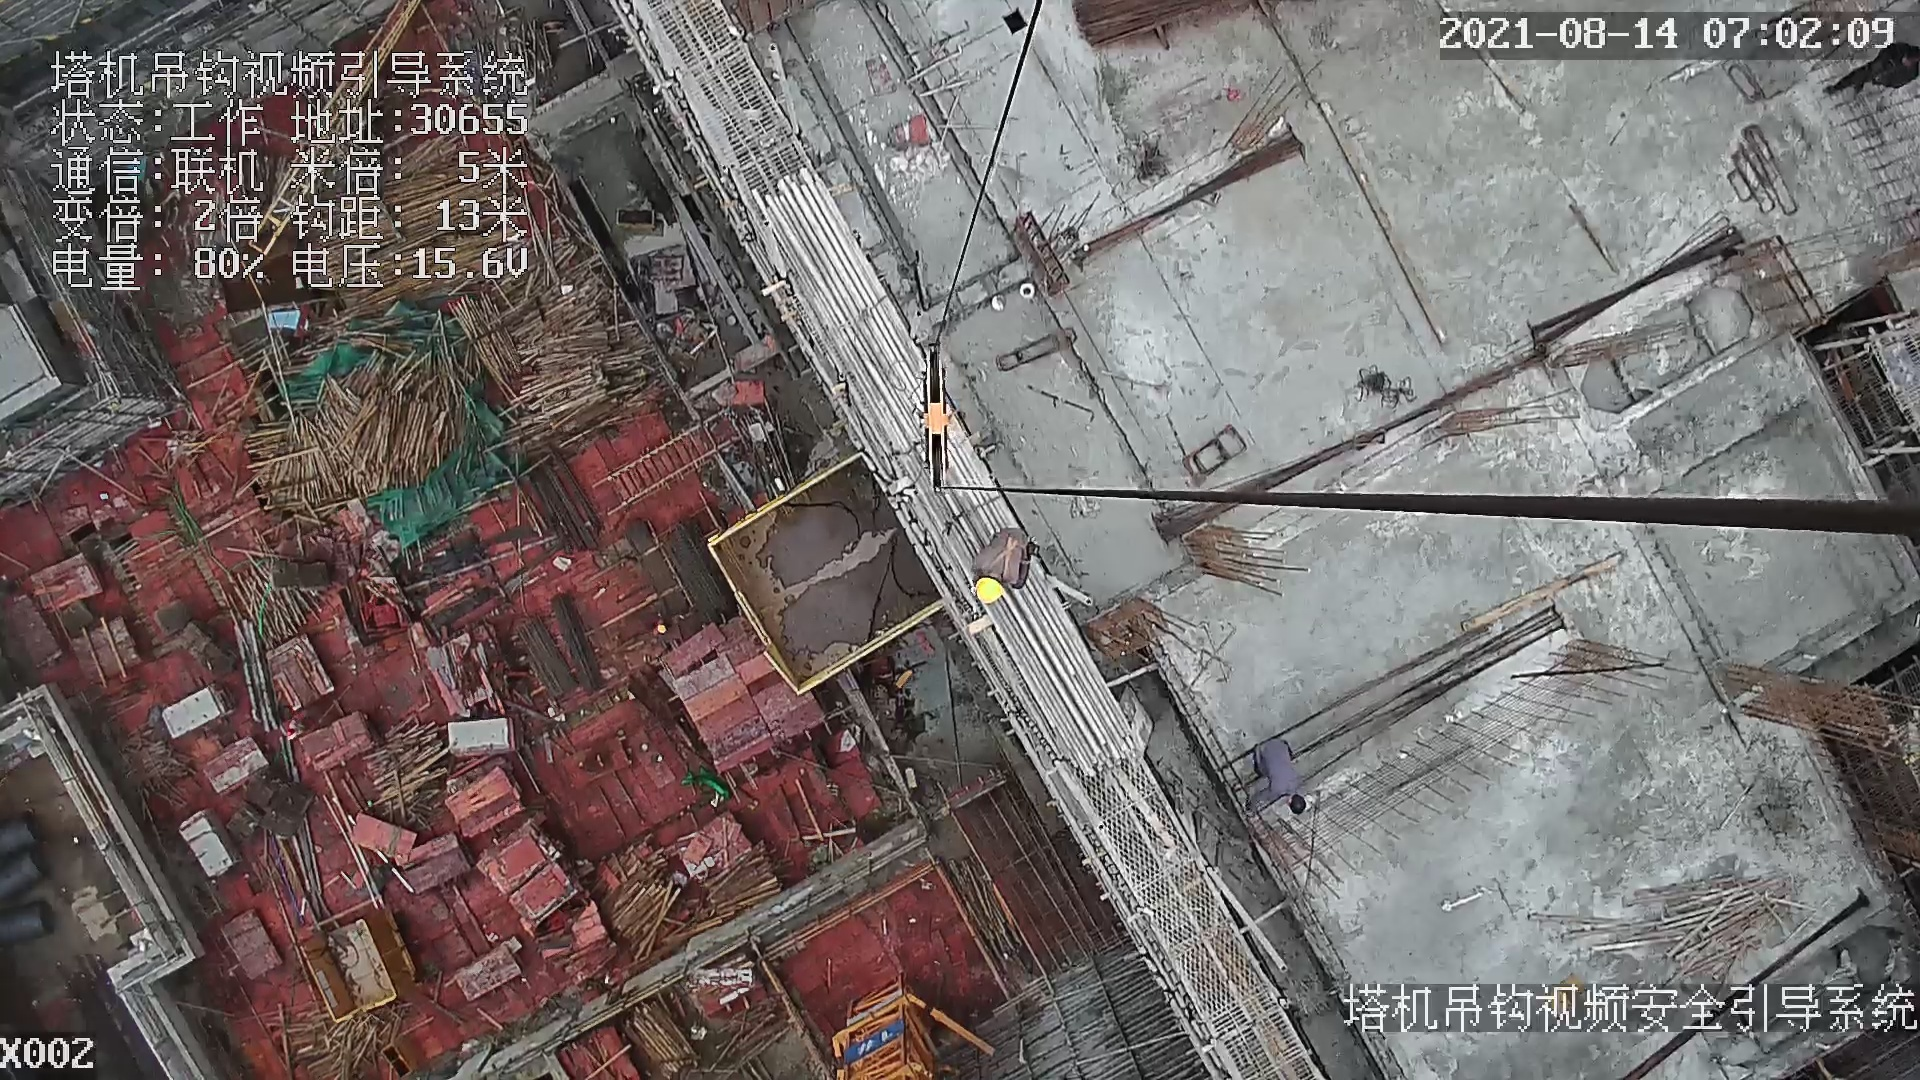helmet: (973, 574, 1015, 607)
hook: (908, 336, 960, 492)
person: (1242, 722, 1310, 821), (962, 527, 1037, 606)
